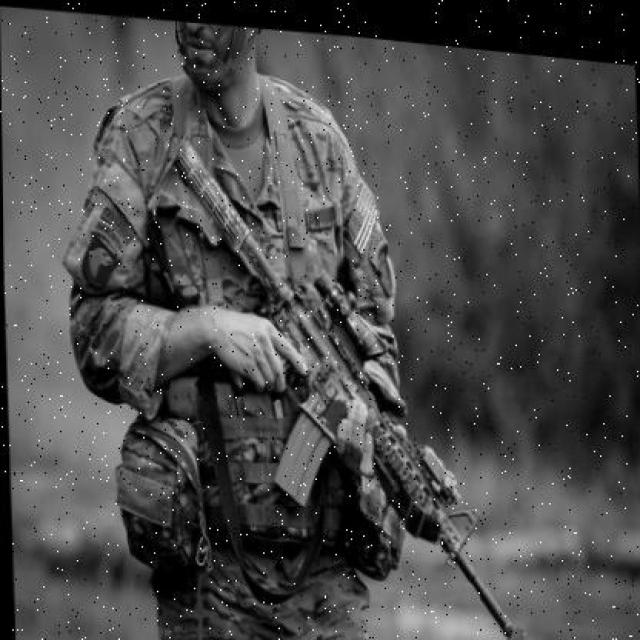weapon: (171, 136, 517, 638)
